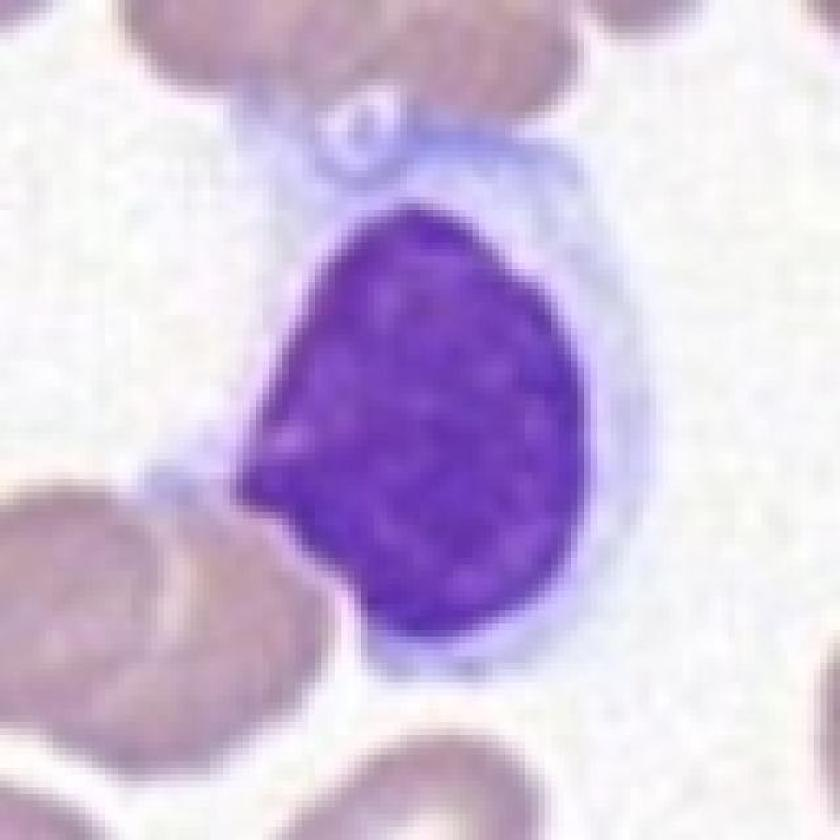lymphocyte: (127, 41, 724, 704)
